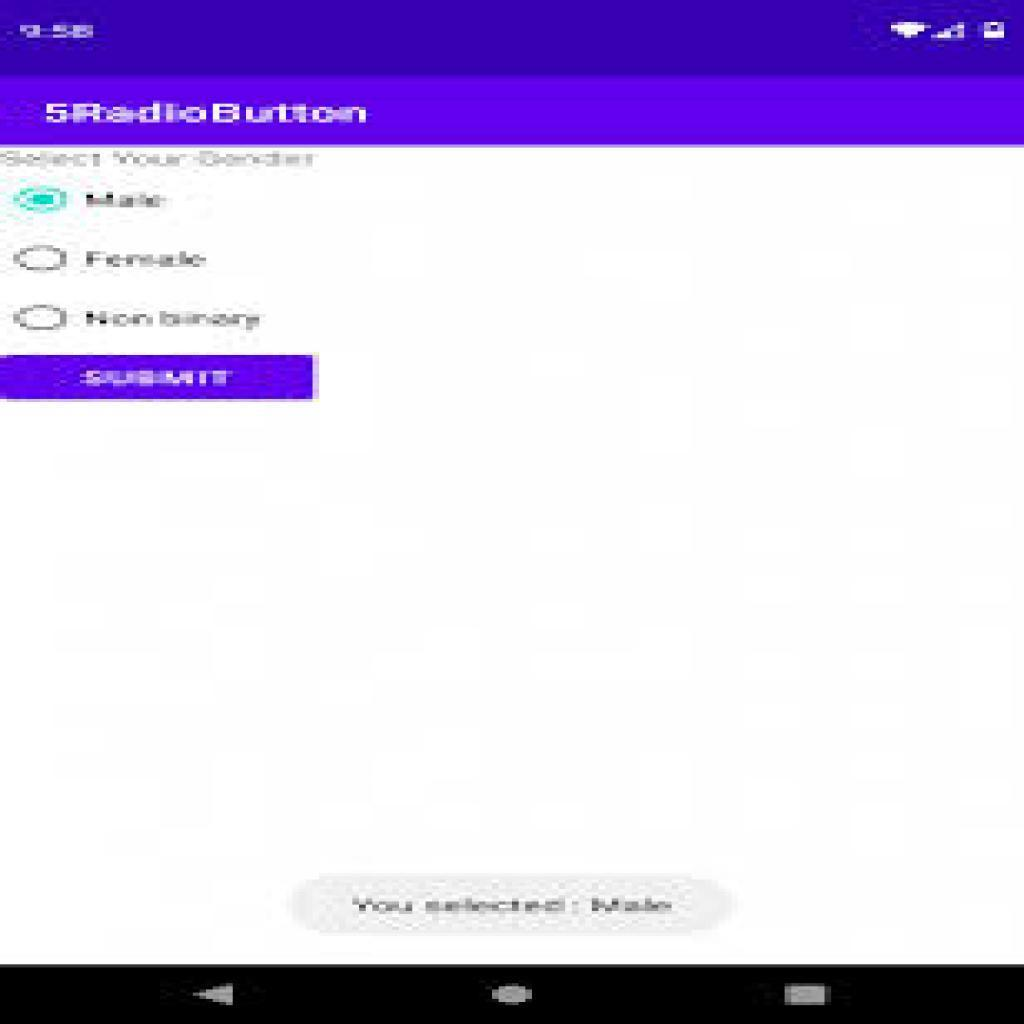button: (1, 352, 317, 403)
label: (82, 306, 265, 338), (82, 244, 213, 276), (84, 182, 170, 215)
radio: (11, 301, 77, 337), (11, 184, 77, 219), (14, 243, 74, 278)
